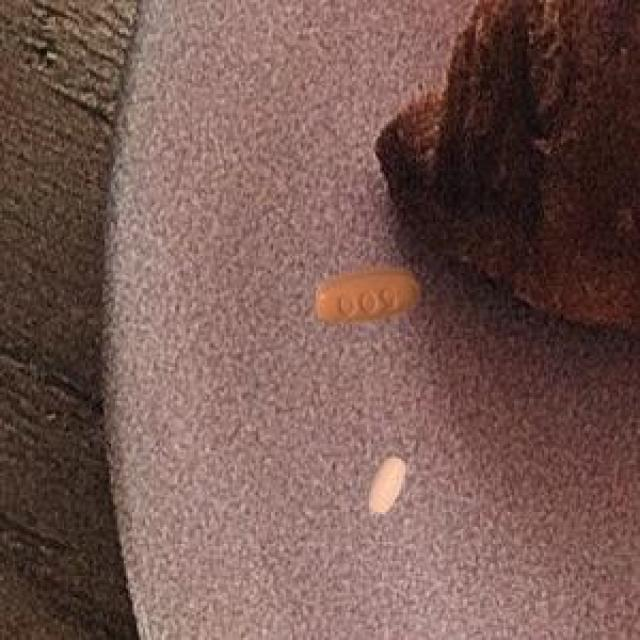Biogesic: (304, 261, 439, 334), (352, 440, 419, 526)
